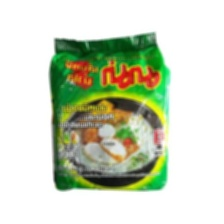snack: (39, 24, 178, 198)
